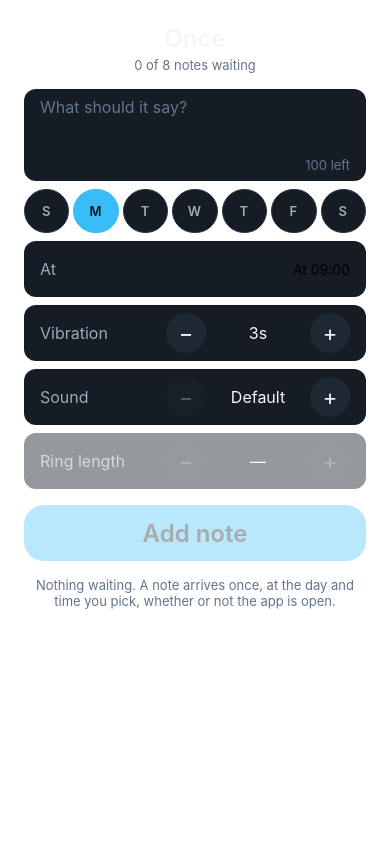
Test case: OneOffsScreen › adds a note and lists it with its day, time and lead
This screenshot has width=390, height=844.
Type "Call the dentist" into the text box named "Note". click: (195, 125)
box: top-left (40, 97), bottom-right (350, 153)
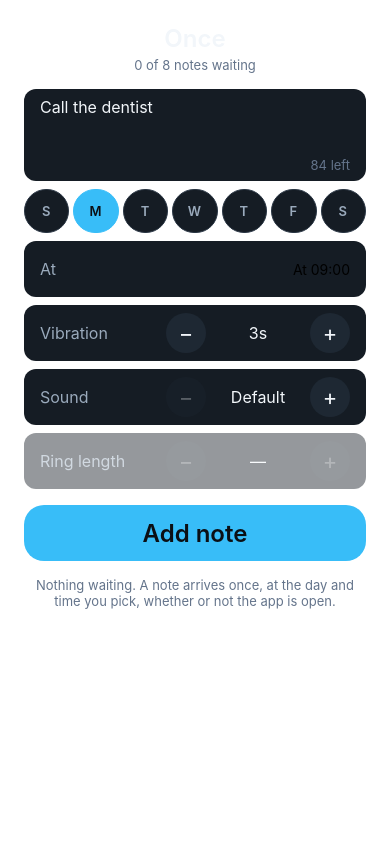
Click the button labelled "Add note". click: click(195, 533)
box: top-left (24, 505), bottom-right (366, 561)
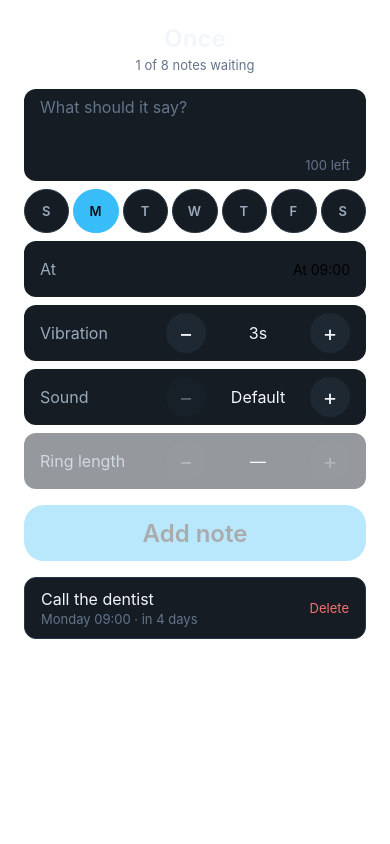
Check: the text "Call the dentist" is shown, box top-left (41, 589), bottom-right (154, 609)
Check: the text "Monday 09:00 · in 4 days" is shown, box top-left (41, 611), bottom-right (198, 627)
